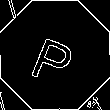P_N: (28, 25, 82, 85)
